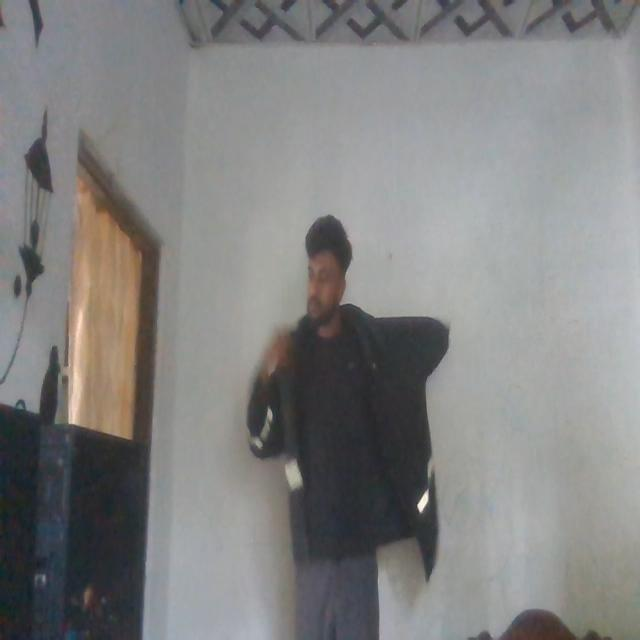Jacket_Wearer: (233, 292, 454, 530)
Person: (241, 200, 437, 640)
